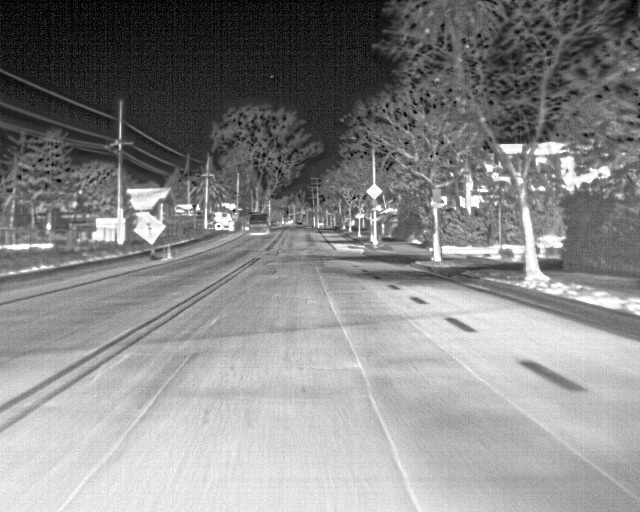vehicle: (248, 212, 270, 235)
